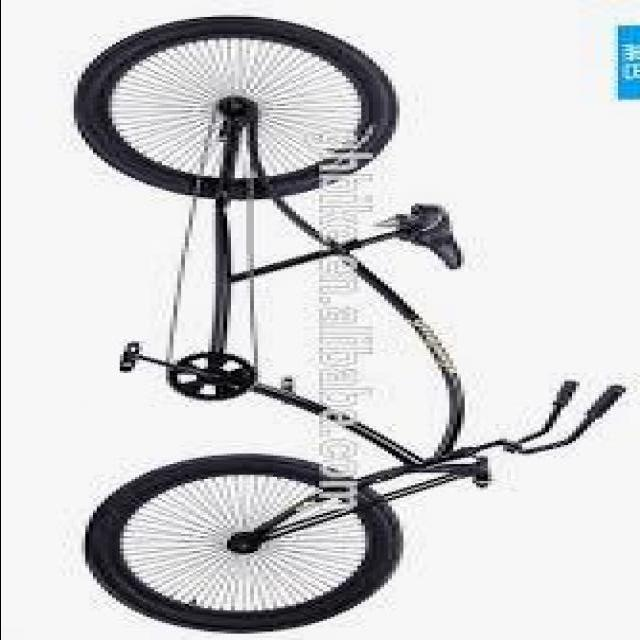bicycle: (69, 33, 629, 637)
